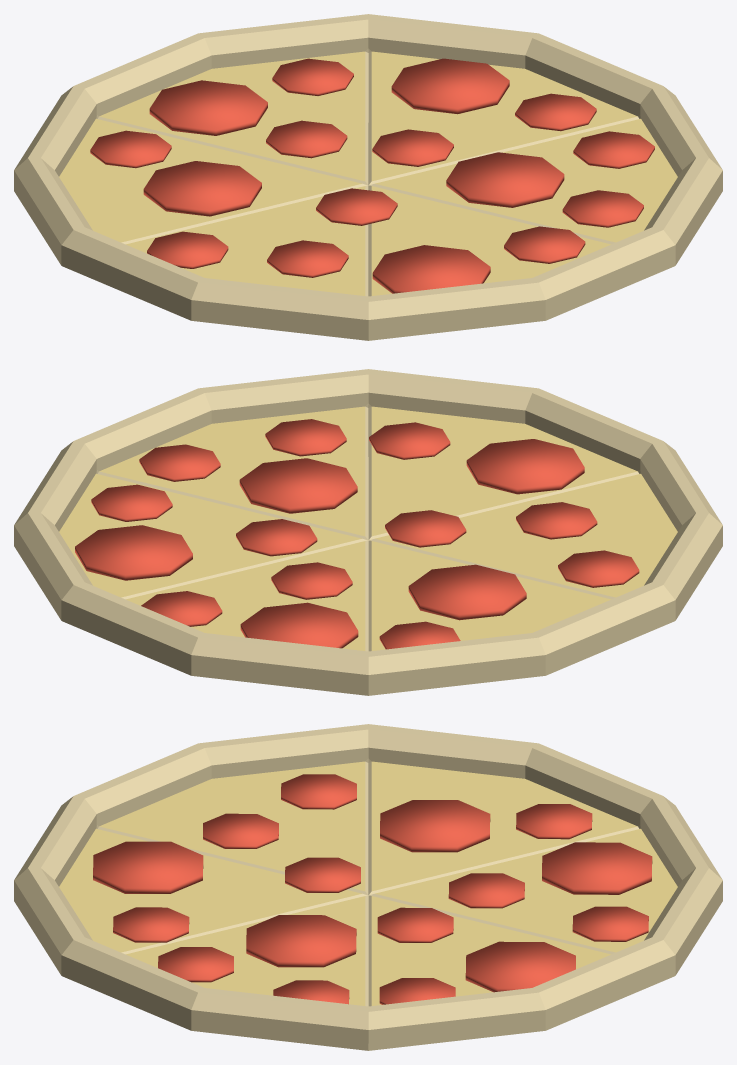
File: pizza-pepperoni.glb
The picture shows the model from 3 angles, top to bottom: view 1: azimuth 30°, elevation 25°; view 2: azimuth 150°, elevation 25°; view 3: azimuth 270°, elevation 25°; orthographic projection.
Visible parts, largest first — view 1: PizzaPepperoni; view 2: PizzaPepperoni; view 3: PizzaPepperoni.
Part boxes in pixels (bbox=[...]): PizzaPepperoni: bbox=[14, 14, 722, 340]; PizzaPepperoni: bbox=[14, 369, 722, 695]; PizzaPepperoni: bbox=[14, 724, 722, 1050].
Bounding box in the file's own units: 0.596 × 0.0307 × 0.596.
